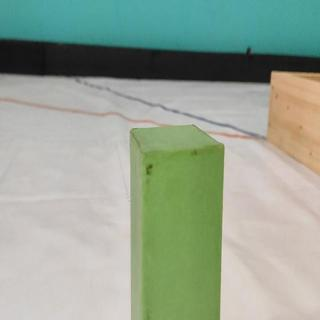greenbox: (129, 124, 226, 320)
